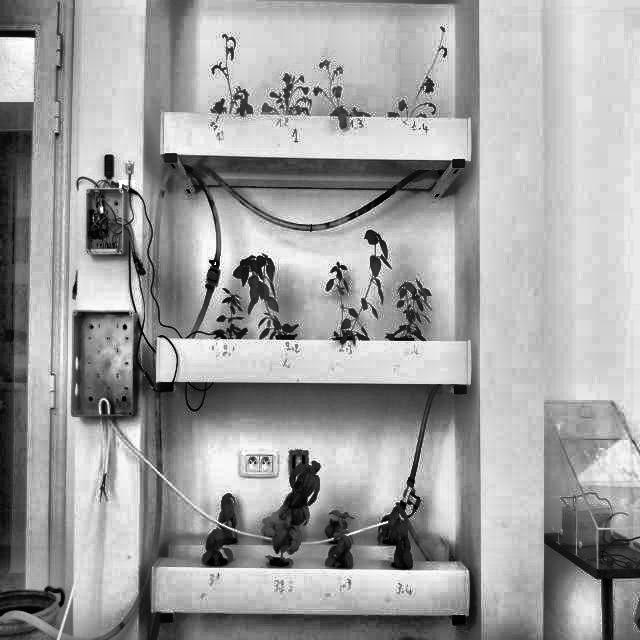plants: (232, 255, 301, 342), (386, 26, 449, 118), (342, 226, 392, 340), (275, 458, 322, 558), (314, 56, 376, 118), (210, 30, 255, 114), (324, 259, 361, 345), (388, 278, 432, 340), (262, 70, 315, 114), (326, 508, 356, 571), (214, 286, 248, 338), (393, 507, 418, 568), (200, 524, 234, 567), (214, 492, 242, 540), (374, 514, 408, 544)
